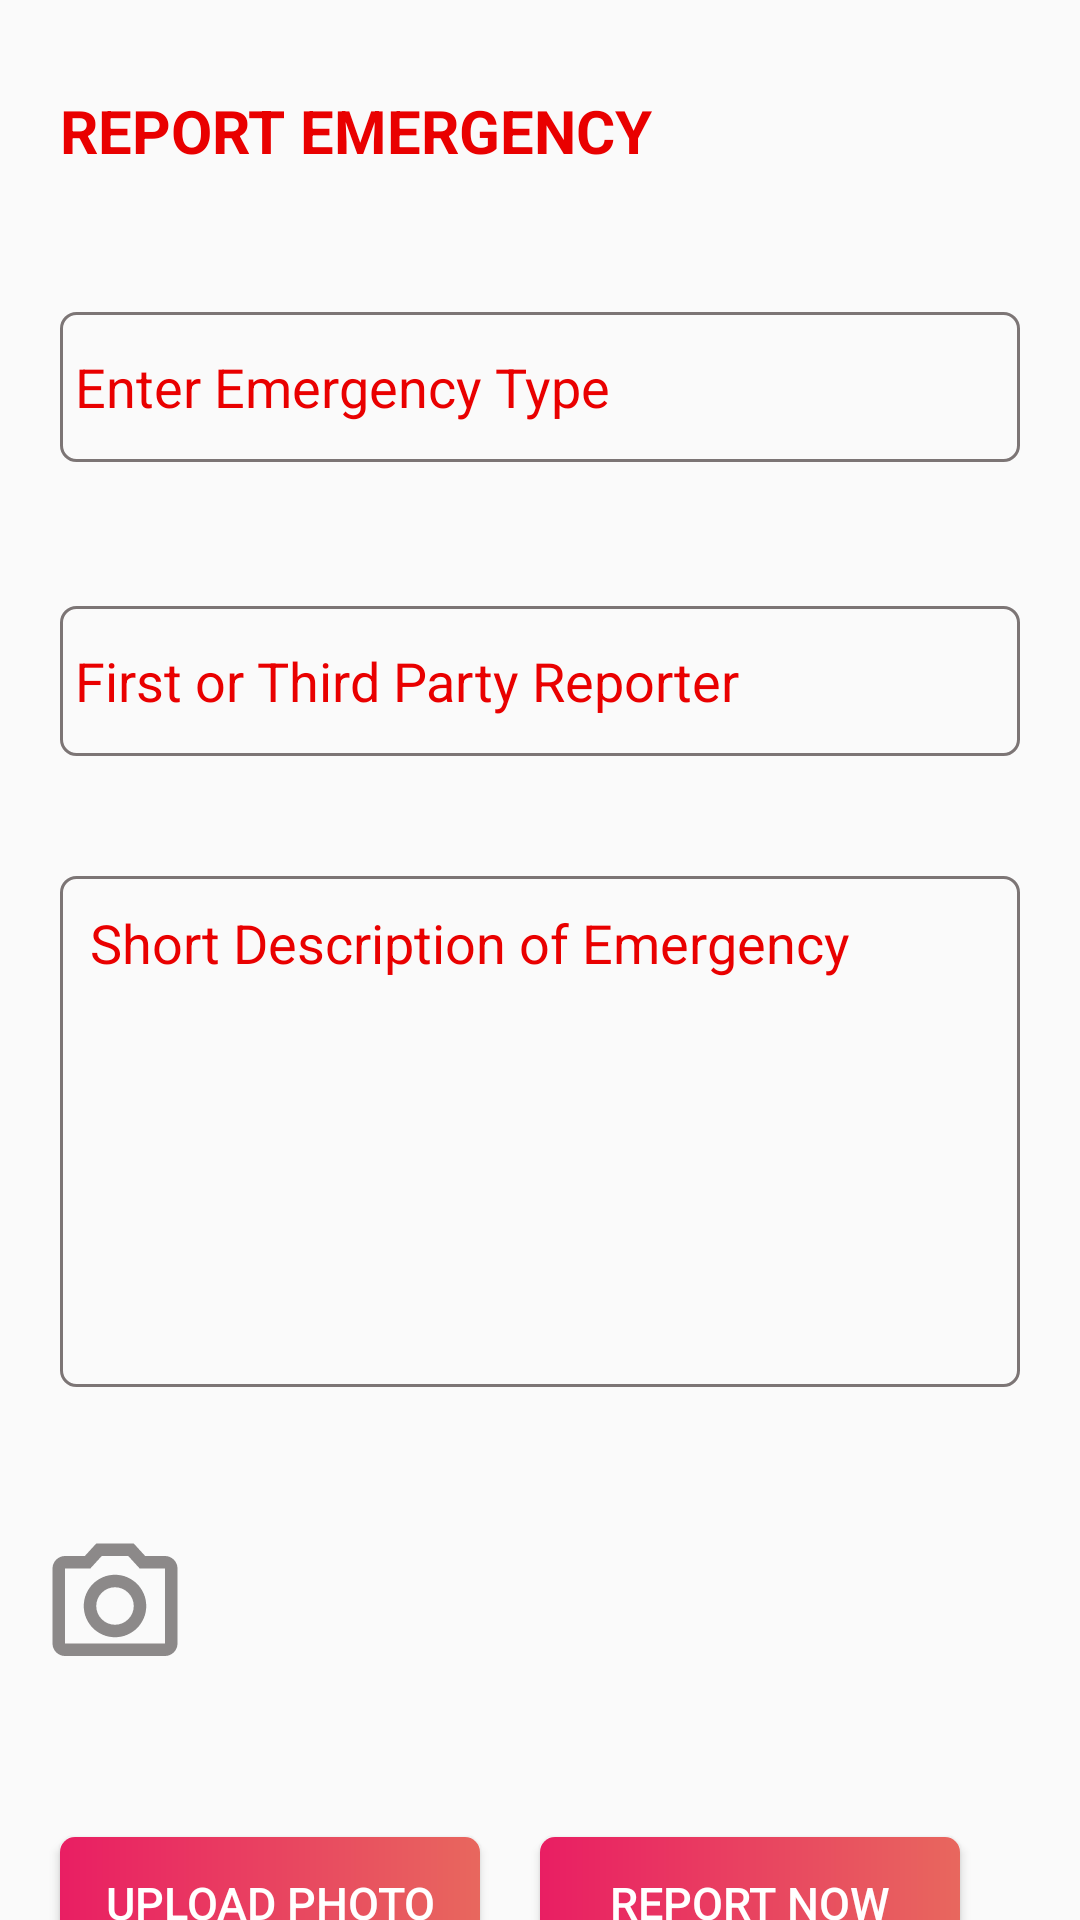

Icon bounding boxes for this 1080 x 1920 phone screenshot, format bbox=(x1, y1, x2, y2):
camera: bbox=(52, 1543, 178, 1656)
